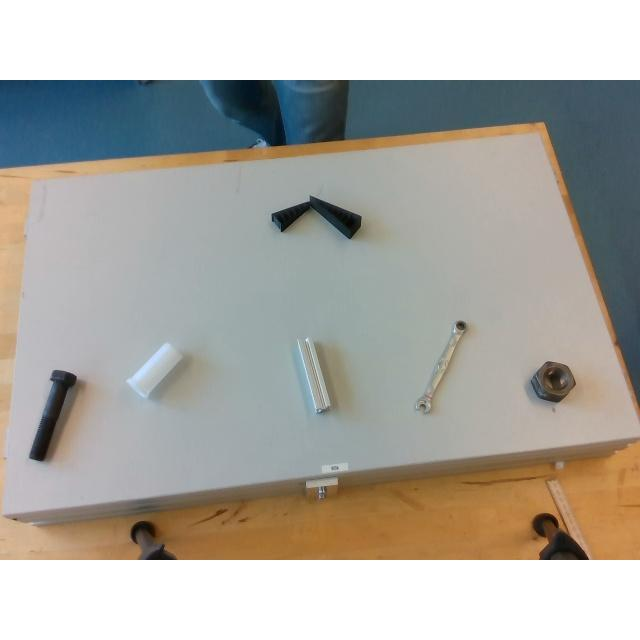F20_20_G: (298, 337, 330, 411)
M20_100: (29, 370, 75, 460)
M30: (530, 360, 574, 400)
Spacer: (127, 342, 183, 394)
Wrench: (415, 321, 465, 412)
